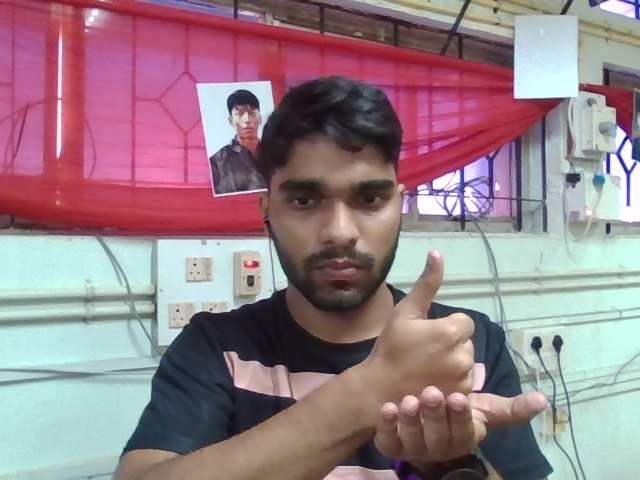help: (333, 237, 565, 480)
